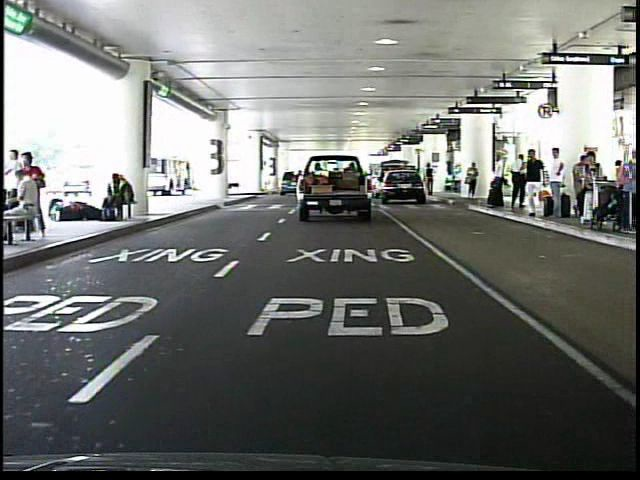person: (545, 144, 570, 226), (522, 147, 547, 223), (485, 151, 509, 214), (463, 161, 479, 203), (423, 160, 435, 197)
